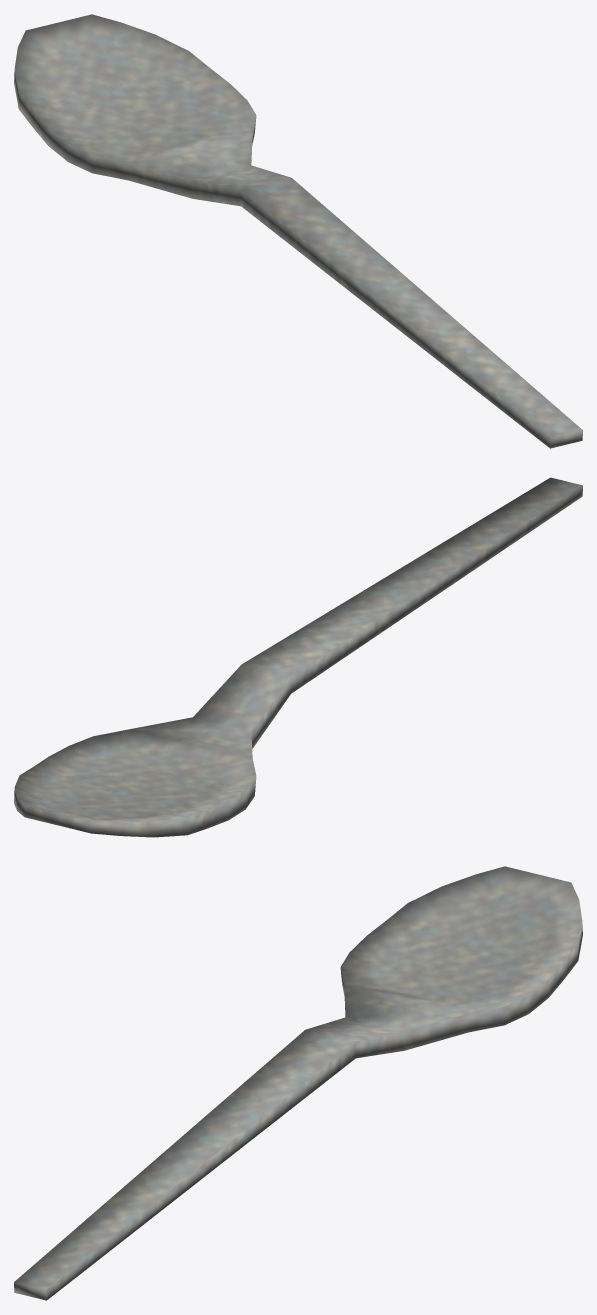
Rendered from spoon.obj.
3 renders of one model, top to bottom at view 1: azimuth 30°, elevation 25°; view 2: azimuth 150°, elevation 25°; view 3: azimuth 330°, elevation 25°, orthographic.
Parts seen in each view (by area): view 1: spoon; view 2: spoon; view 3: spoon.
Part boxes in pixels (<box>): spoon: <box>14,14,582,448</box>; spoon: <box>14,477,582,837</box>; spoon: <box>14,866,582,1300</box>.
Bounding box in the file's own units: 0.0471 × 0.0126 × 0.2288.
